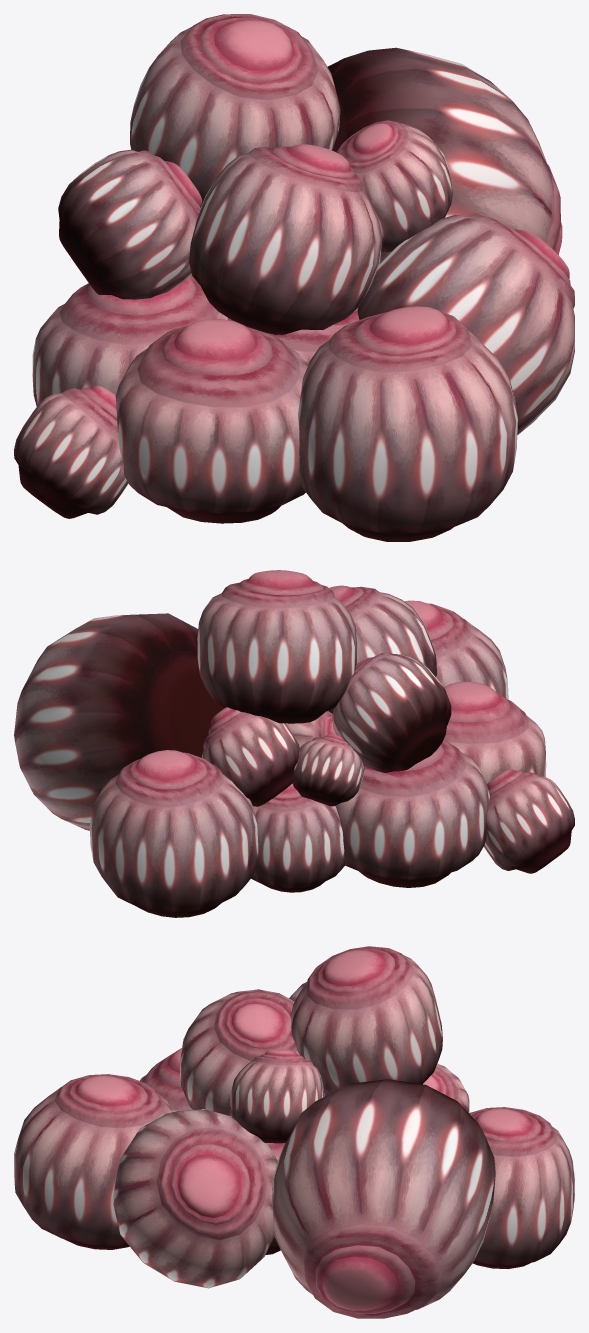
Rendered from ore_deposit_white_dream.glb.
3 views of the same model, one above another, from view 1: azimuth 30°, elevation 25°; view 2: azimuth 150°, elevation 25°; view 3: azimuth 270°, elevation 25° (orthographic). The views are drawn at different scales.
Parts seen in each view (by area): view 1: ore_deposit_white; view 2: ore_deposit_white; view 3: ore_deposit_white.
Part boxes in pixels (bbox=[...]): ore_deposit_white: bbox=[14, 14, 574, 541]; ore_deposit_white: bbox=[14, 570, 574, 917]; ore_deposit_white: bbox=[14, 946, 574, 1318].
Size of the model in its own units: 0.4416 by 0.2593 by 0.4603.
Materials: 1 (1 with a texture image).
